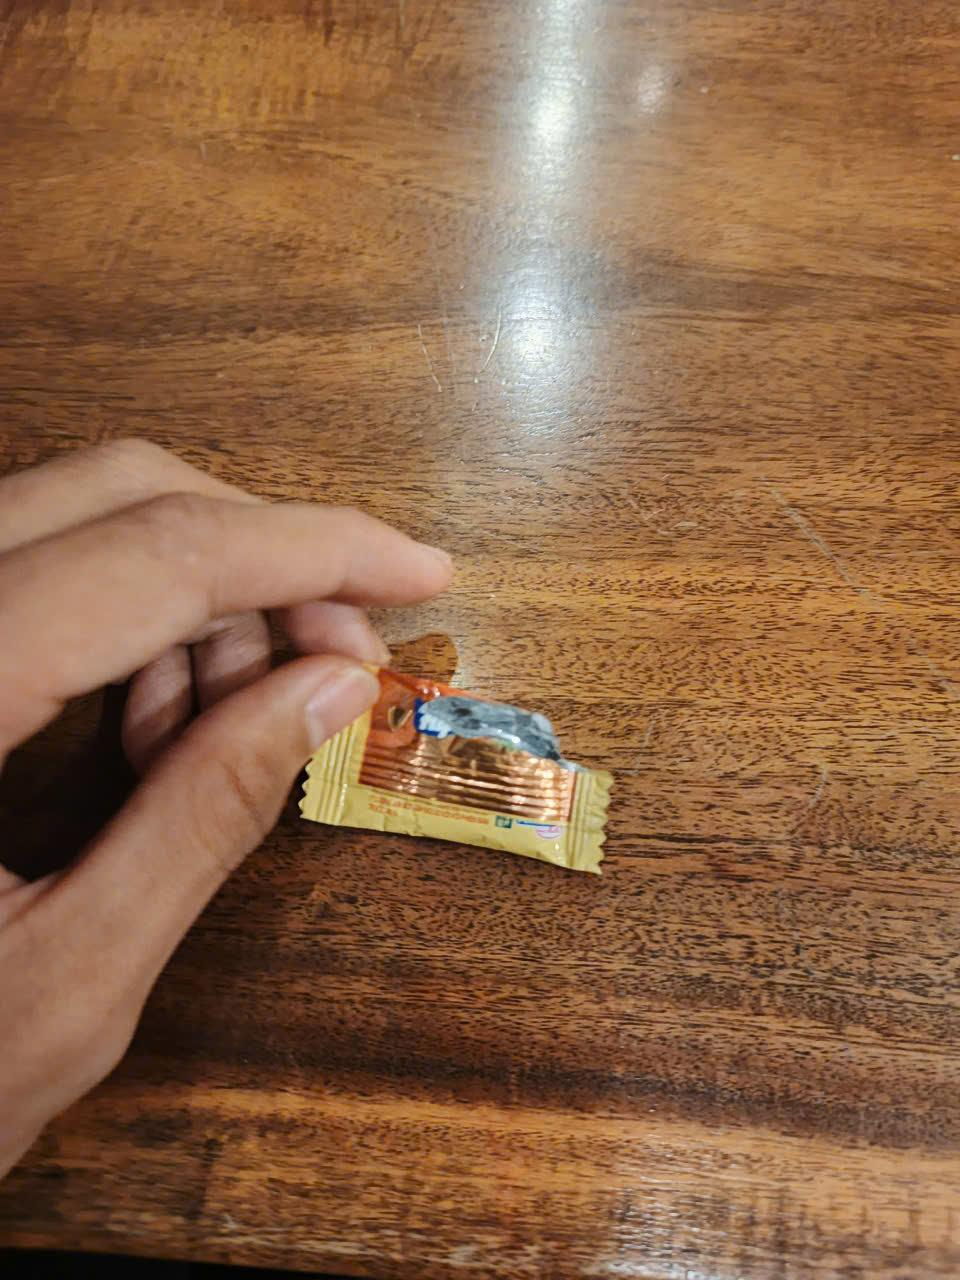Con lai: (297, 653, 610, 883)
